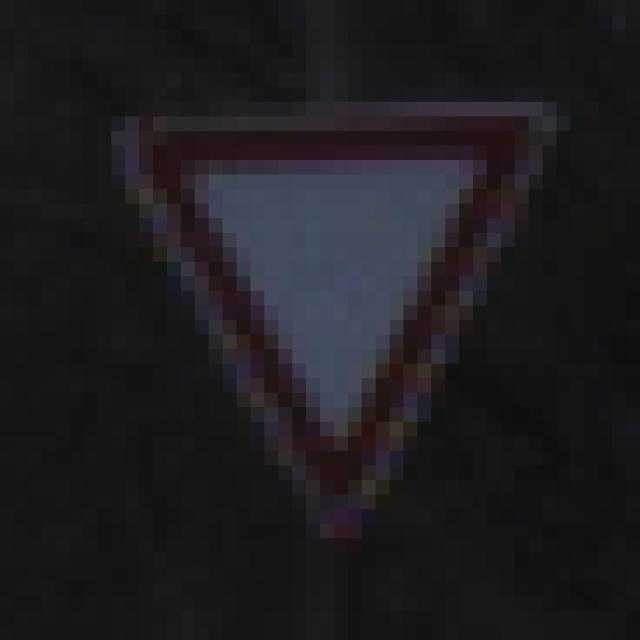Give Way: (85, 74, 572, 568)
